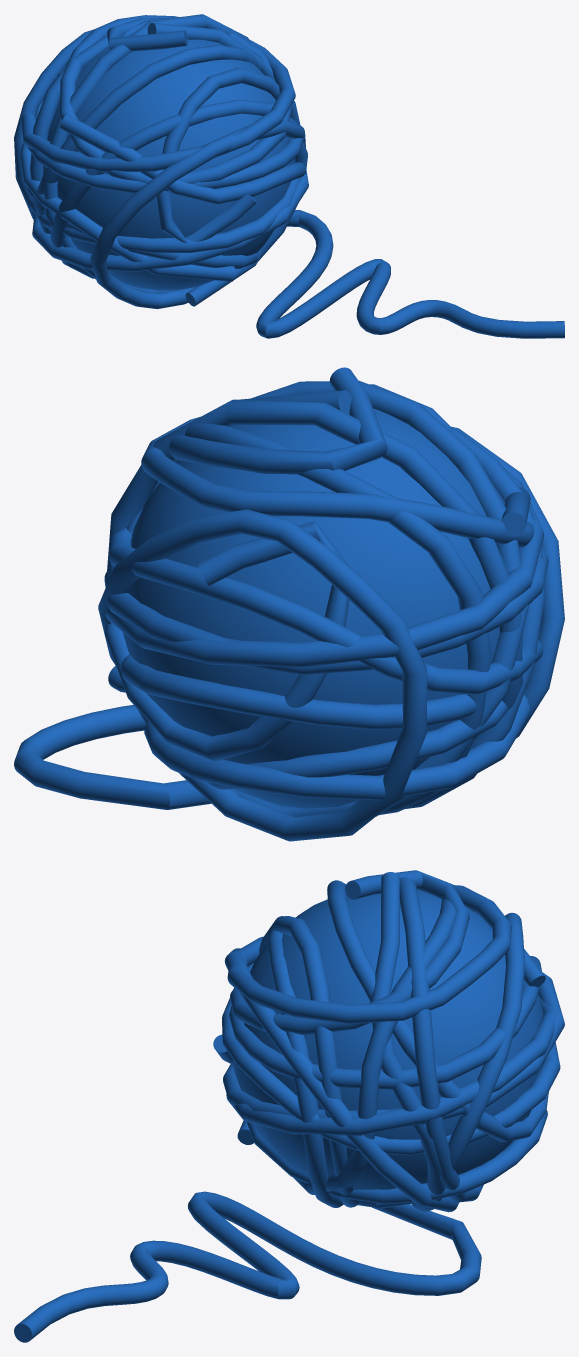
The model's file is novelo_final.glb.
3 renders of one model, top to bottom at view 1: azimuth 30°, elevation 25°; view 2: azimuth 150°, elevation 25°; view 3: azimuth 270°, elevation 25°, orthographic. The views are drawn at different scales.
Visible parts, largest first — view 1: pCylinder1; view 2: pCylinder1; view 3: pCylinder1.
Part boxes in pixels (box(x1,y1,x2,y2)): pCylinder1: box(14, 14, 564, 338); pCylinder1: box(14, 367, 564, 841); pCylinder1: box(14, 870, 564, 1342).
Size of the model in its own units: 0.1057 by 0.0726 by 0.1118.
